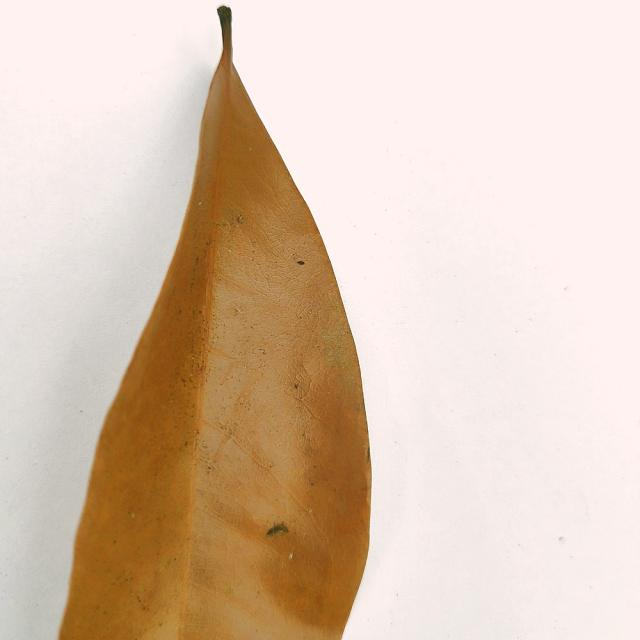Dry_Leaf-Lychee: (56, 7, 372, 639)
